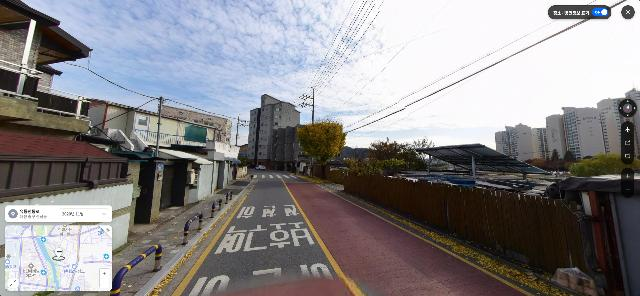ginkgo: (296, 115, 348, 180)
